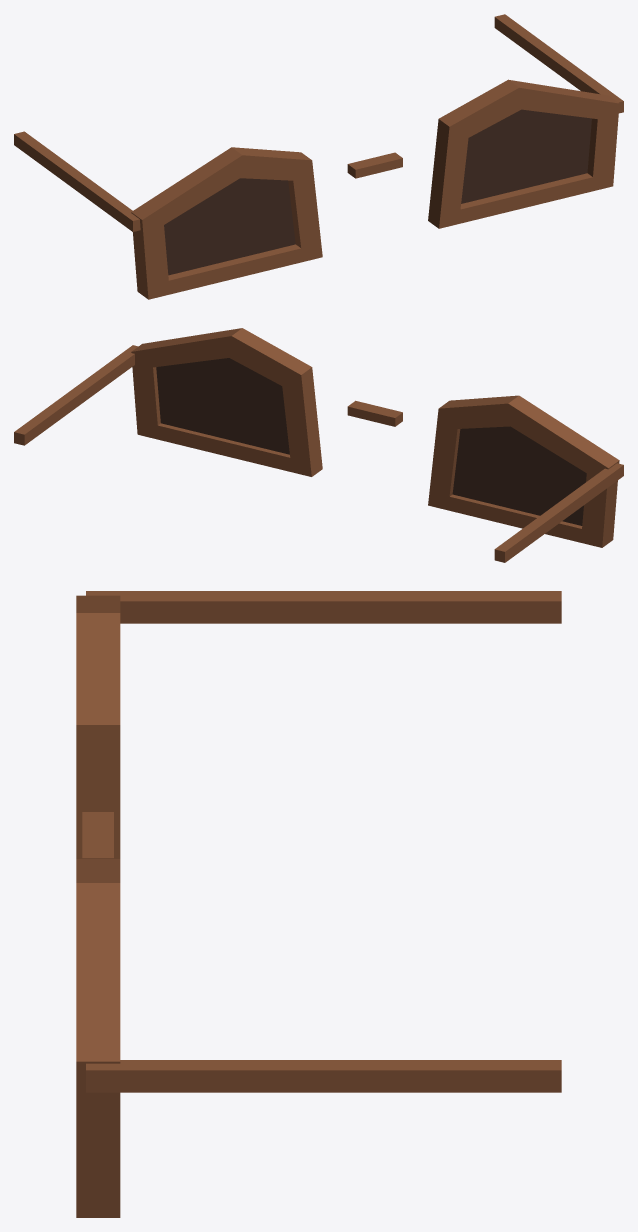
File: glasses_cat_eye.glb
3 views of the same model, one above another, from view 1: azimuth 30°, elevation 25°; view 2: azimuth 150°, elevation 25°; view 3: azimuth 270°, elevation 25° (orthographic). The views are drawn at different scales.
Visible parts, largest first — view 1: right-cat-frame, left-cat-frame, right-lens, left-lens, left-temple, right-temple, bridge; view 2: right-cat-frame, left-cat-frame, right-lens, left-lens, left-temple, right-temple, bridge; view 3: right-temple, right-cat-frame, left-temple, left-cat-frame, bridge.
Boxes of the visible parts, x1,y1,x2,y2 form: right-cat-frame: [428, 79, 619, 228]; left-cat-frame: [131, 147, 322, 299]; right-lens: [461, 109, 591, 203]; left-lens: [164, 178, 295, 275]; left-temple: [14, 131, 140, 231]; right-temple: [494, 14, 623, 113]; bridge: [347, 152, 402, 178]; right-cat-frame: [131, 328, 322, 476]; left-cat-frame: [428, 395, 619, 547]; right-lens: [156, 358, 289, 454]; left-lens: [452, 426, 586, 525]; left-temple: [494, 463, 623, 562]; right-temple: [14, 345, 138, 445]; bridge: [347, 400, 402, 426]; right-temple: [86, 1060, 561, 1092]; right-cat-frame: [76, 859, 120, 1217]; left-temple: [86, 591, 561, 623]; left-cat-frame: [76, 595, 120, 858]; bridge: [82, 812, 113, 858].
Bounding box in the file's own units: 9.3 × 2.2 × 3.98.
